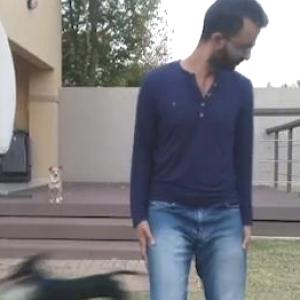follow: (1, 0, 163, 299), (133, 0, 264, 299)
